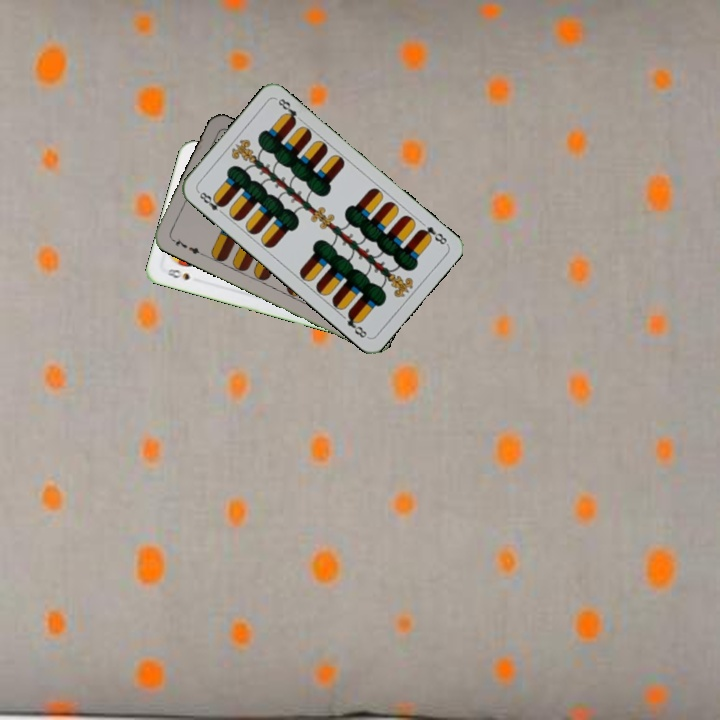E7: (168, 235, 206, 258)
E8: (194, 187, 227, 218), (415, 222, 450, 247)
S8: (163, 264, 192, 283)
